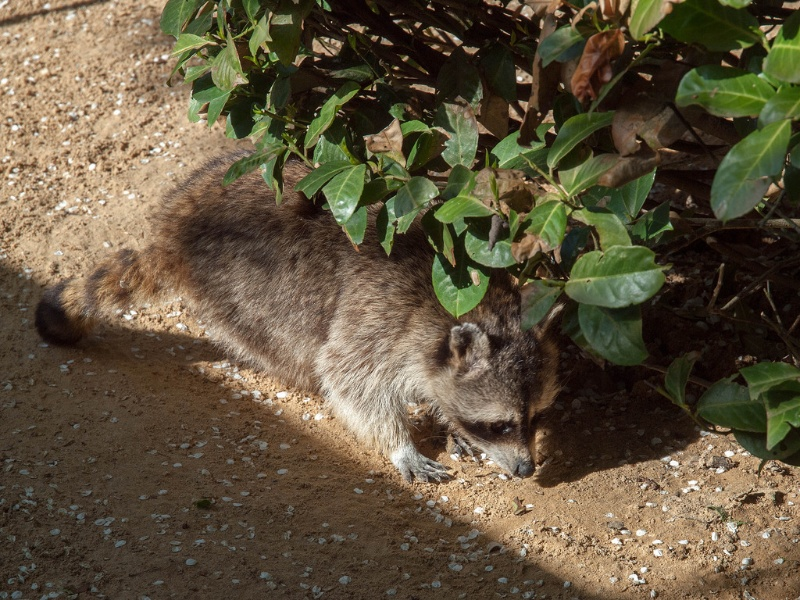raccoon: (38, 140, 573, 486)
